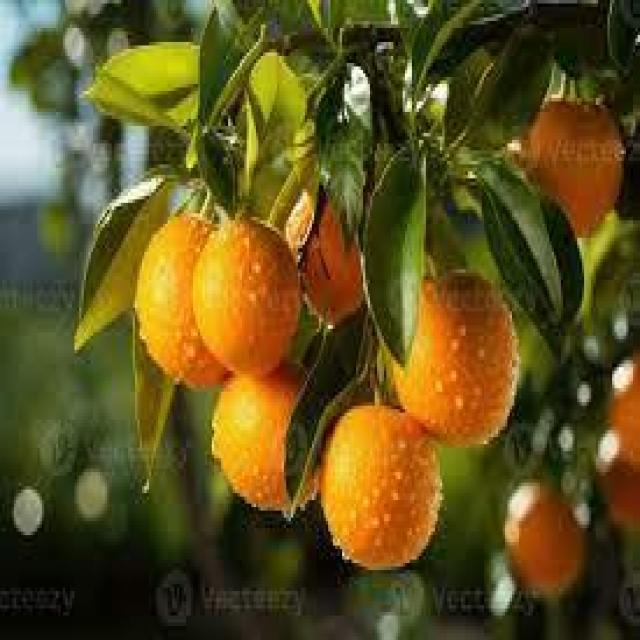fruit: (394, 272, 520, 444), (320, 402, 441, 566), (192, 215, 303, 378), (135, 211, 234, 385), (211, 366, 314, 510), (525, 99, 623, 232), (503, 479, 588, 594), (298, 196, 366, 323), (604, 354, 640, 463), (599, 451, 640, 531), (284, 190, 316, 254), (385, 348, 414, 414), (504, 135, 528, 174)
